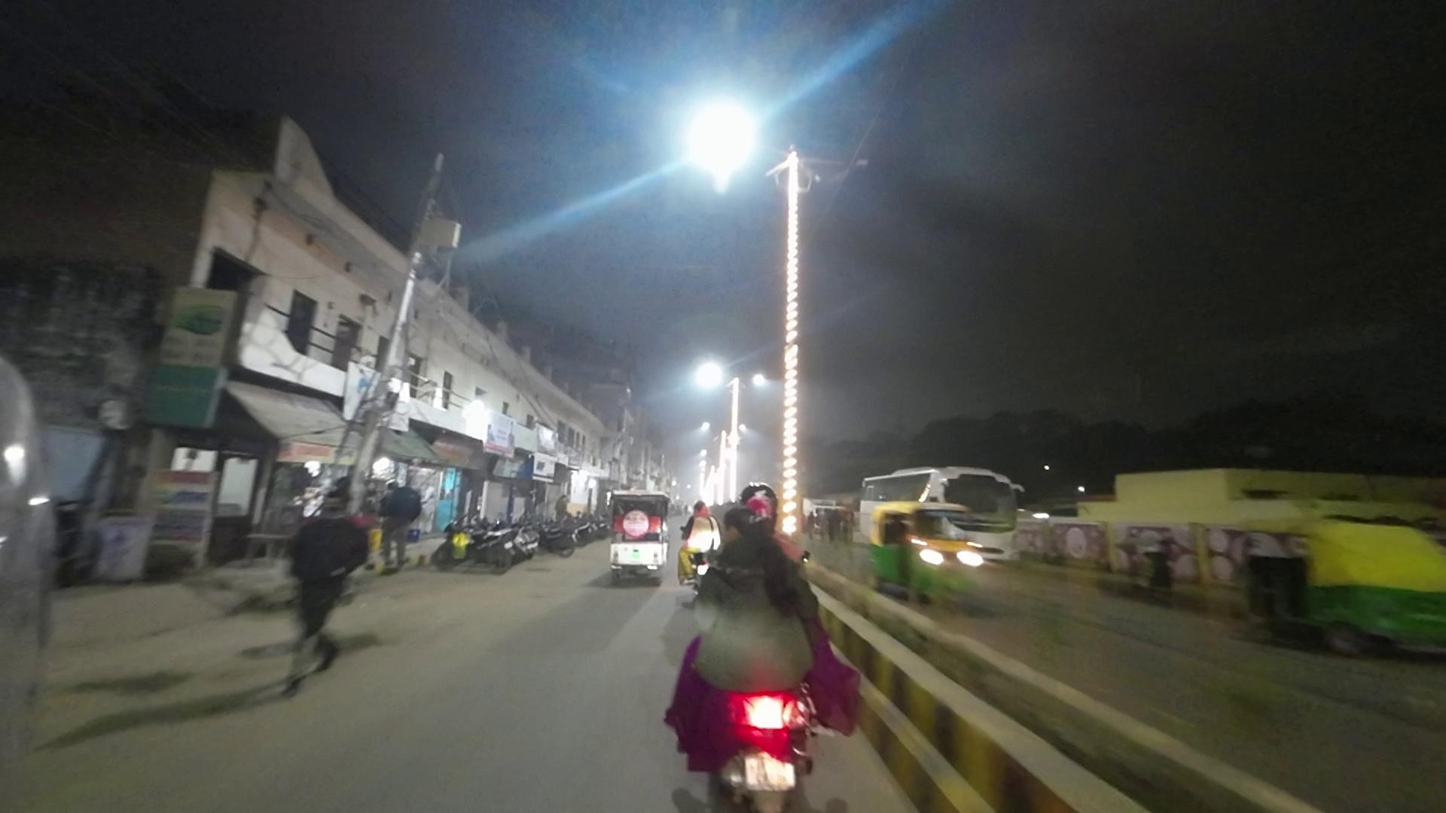streetlight: (808, 154, 874, 172)
